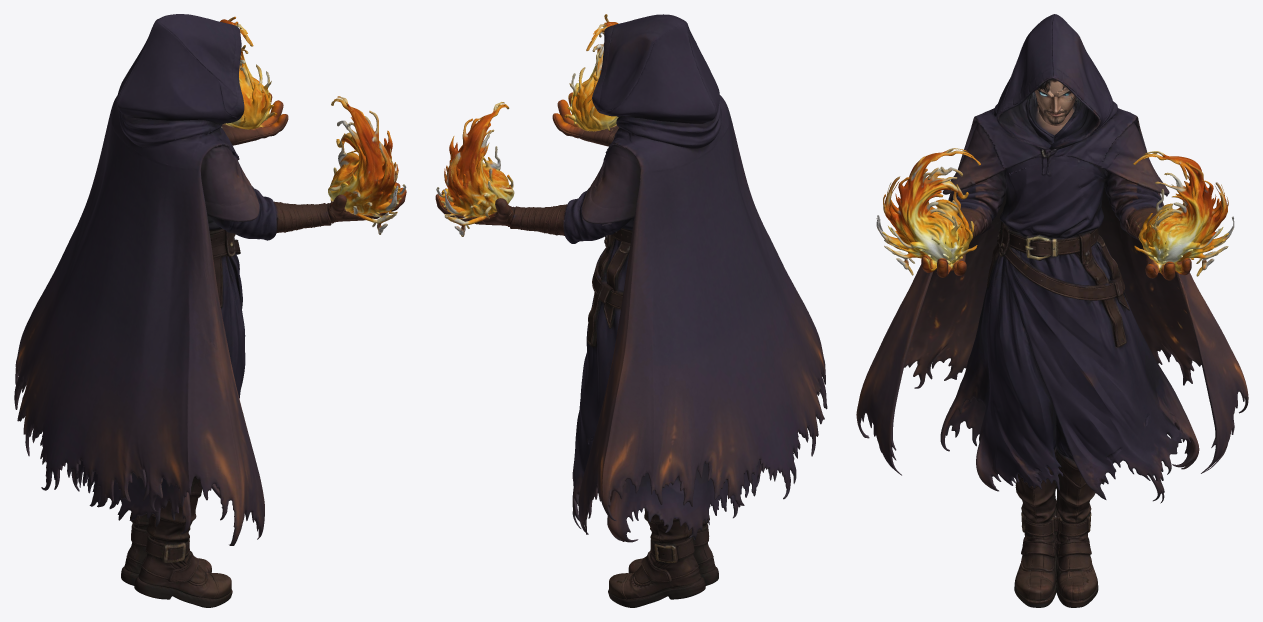
Rendered from corwin.glb.
3 renders of one model, left to right at view 1: azimuth 30°, elevation 25°; view 2: azimuth 150°, elevation 25°; view 3: azimuth 270°, elevation 25°, orthographic. The views are drawn at different scales.
Parts seen in each view (by area): view 1: tripo_node_7425922a-6c72-4589-8778-d7d2d0ecec82; view 2: tripo_node_7425922a-6c72-4589-8778-d7d2d0ecec82; view 3: tripo_node_7425922a-6c72-4589-8778-d7d2d0ecec82.
Part boxes in pixels (x1,y1,x2,y2): tripo_node_7425922a-6c72-4589-8778-d7d2d0ecec82: (14,14,406,607); tripo_node_7425922a-6c72-4589-8778-d7d2d0ecec82: (435,14,827,607); tripo_node_7425922a-6c72-4589-8778-d7d2d0ecec82: (856,14,1248,607).
Bounding box in the file's own units: 0.5125 × 0.9798 × 0.613.
Materials: 1 (1 with a texture image).
